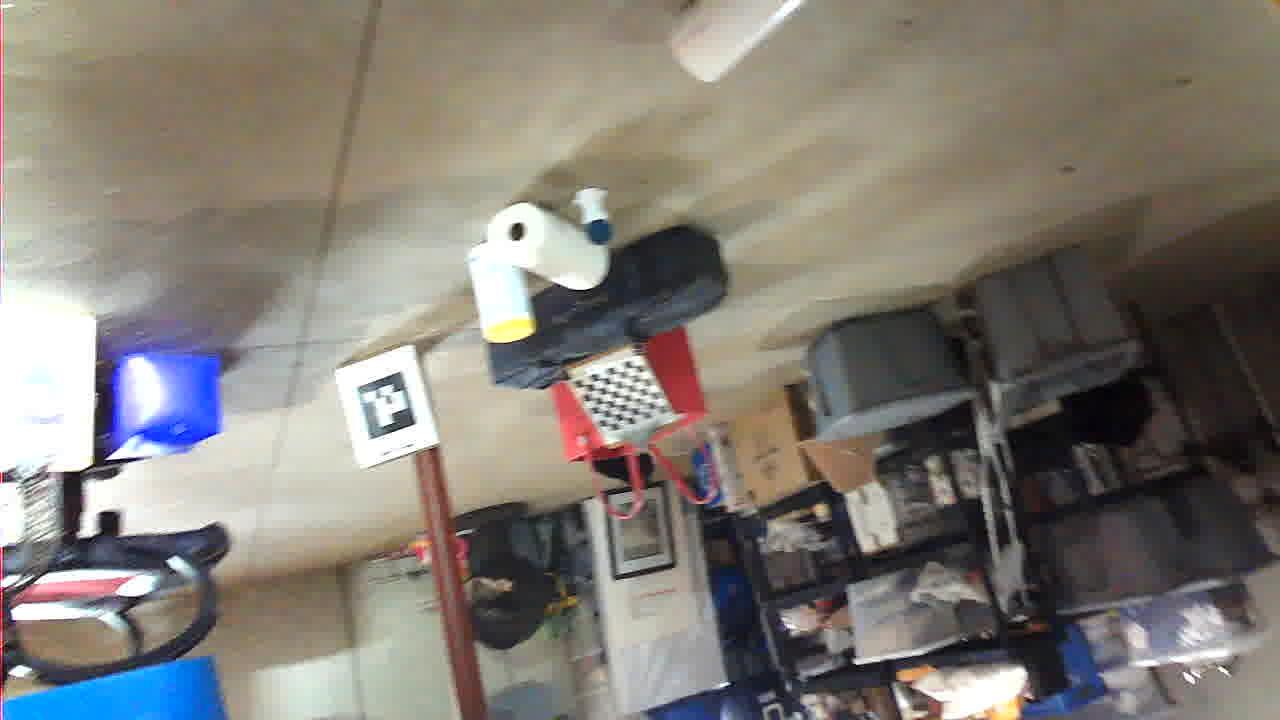coral: (472, 637, 617, 720)
